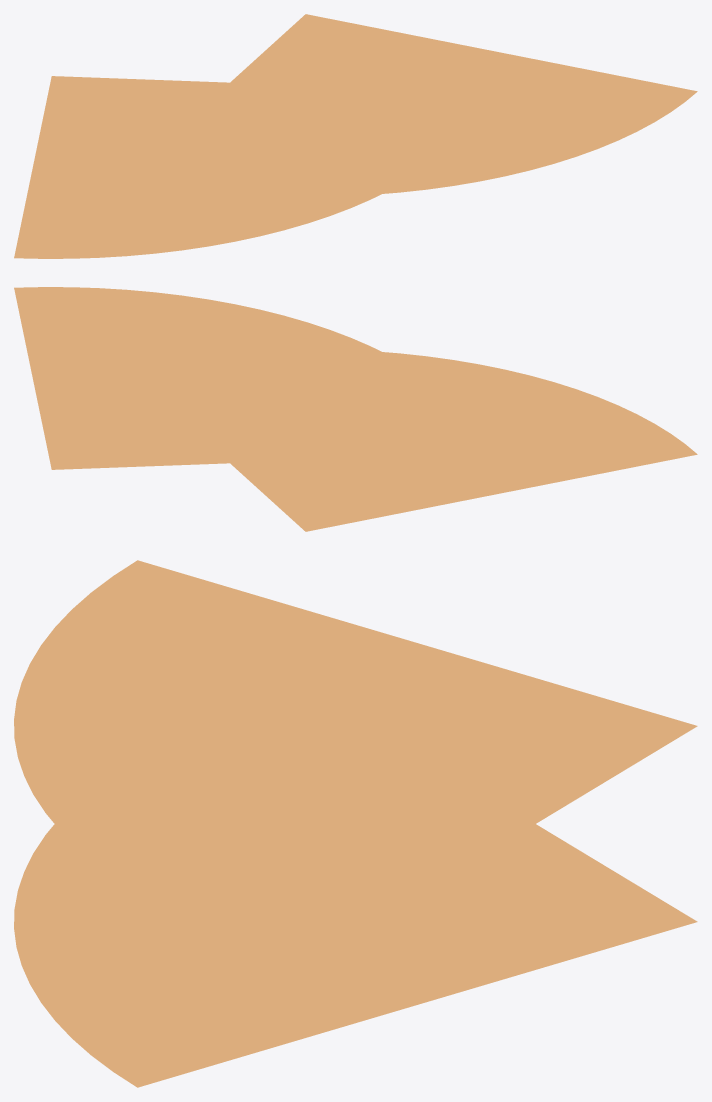
Rendered from SM_Sono_Couverture.glb.
3 renders of one model, top to bottom at view 1: azimuth 30°, elevation 25°; view 2: azimuth 150°, elevation 25°; view 3: azimuth 270°, elevation 25°, orthographic. The views are drawn at different scales.
Visible parts, largest first — view 1: SM_Sono_Couverture_1, SM_Sono_Couverture_0; view 2: SM_Sono_Couverture_0, SM_Sono_Couverture_1; view 3: SM_Sono_Couverture_0, SM_Sono_Couverture_1.
Part boxes in pixels (left/top/right/bottom): SM_Sono_Couverture_1: left=133, top=14, right=697, bottom=196; SM_Sono_Couverture_0: left=14, top=76, right=482, bottom=258; SM_Sono_Couverture_0: left=123, top=349, right=697, bottom=531; SM_Sono_Couverture_1: left=14, top=287, right=482, bottom=469; SM_Sono_Couverture_0: left=14, top=560, right=697, bottom=962; SM_Sono_Couverture_1: left=14, top=685, right=697, bottom=1087.
Size of the model in its own units: 113 by 0 by 61.99.
